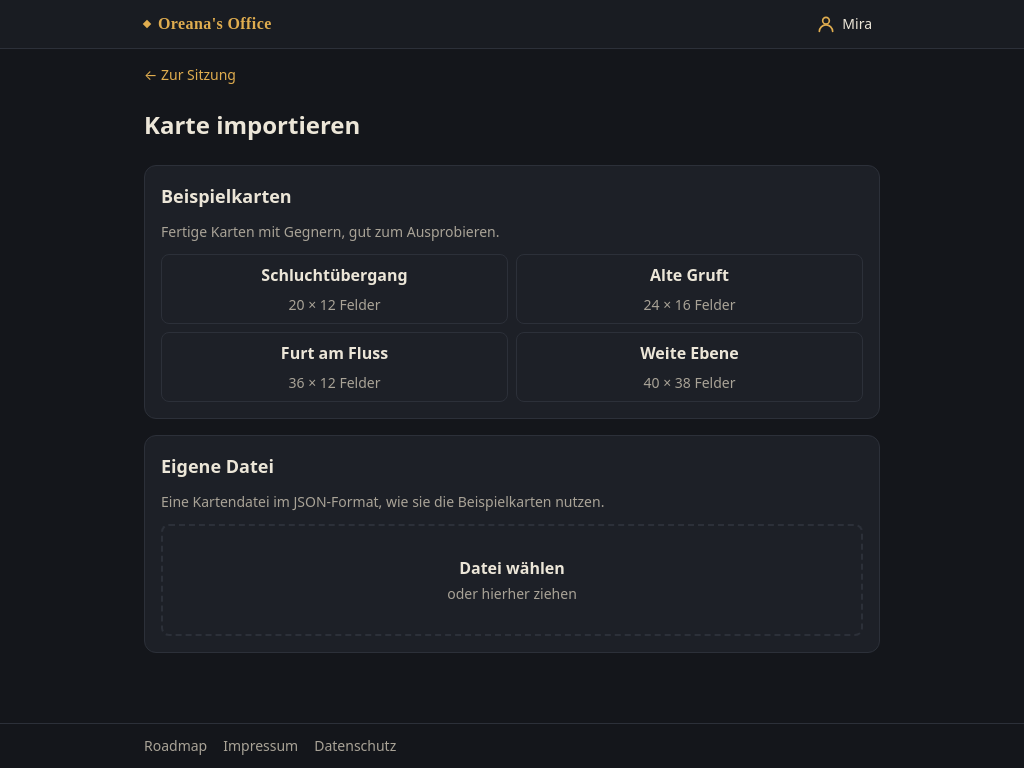
Test case: MapImportPage › imports a sample map into the session and goes back to it
Click the button "Schluchtübergang 20 × 12 Felder" at (334, 289), box [161, 254, 508, 324]
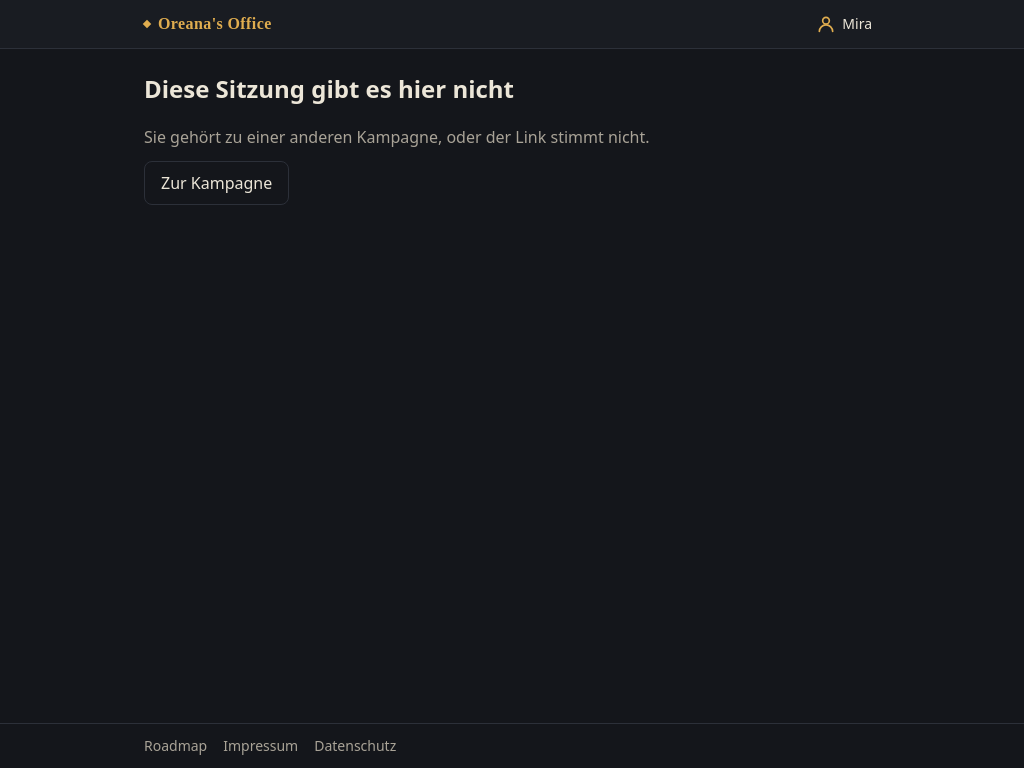
Result: the heading "Diese Sitzung gibt es hier nicht" is shown at [144, 72, 514, 105]
